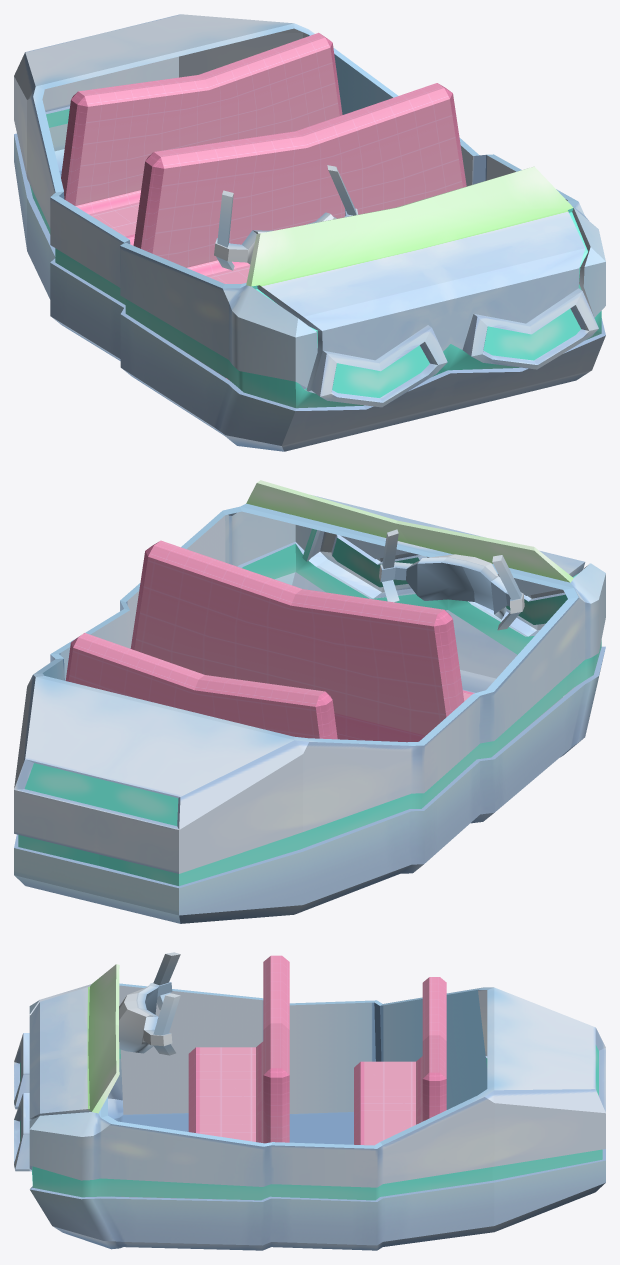
Rendered from car_v2.fbx.
3 renders of one model, top to bottom at view 1: azimuth 30°, elevation 25°; view 2: azimuth 150°, elevation 25°; view 3: azimuth 270°, elevation 25°, orthographic. The views are drawn at different scales.
Parts seen in each view (by area): view 1: polySurface5, isu1, isu3, LINE, R_hart, R_hart1, hundle1; view 2: polySurface5, isu1, LINE, isu3, hundle1, backlight, R_hart1, R_hart; view 3: polySurface5, isu1, isu3, LINE, hundle1.
Boxes of the visible parts, x1,y1,x2,y2 form: polySurface5: (14, 14, 605, 451); isu1: (133, 83, 466, 380); isu3: (61, 32, 342, 245); LINE: (30, 109, 601, 408); R_hart: (332, 345, 429, 397); R_hart1: (483, 308, 580, 360); hundle1: (214, 165, 358, 270); polySurface5: (14, 480, 605, 923); isu1: (130, 540, 474, 742); LINE: (18, 543, 601, 885); isu3: (65, 633, 337, 739); hundle1: (379, 529, 524, 630); backlight: (24, 763, 178, 825); R_hart1: (332, 538, 419, 587); R_hart: (506, 594, 567, 624); polySurface5: (14, 964, 605, 1250); isu1: (188, 955, 289, 1143); isu3: (354, 977, 446, 1145); LINE: (32, 1049, 602, 1200); hundle1: (119, 952, 180, 1055).
Size of the model in its own units: 300 by 167 by 505.
